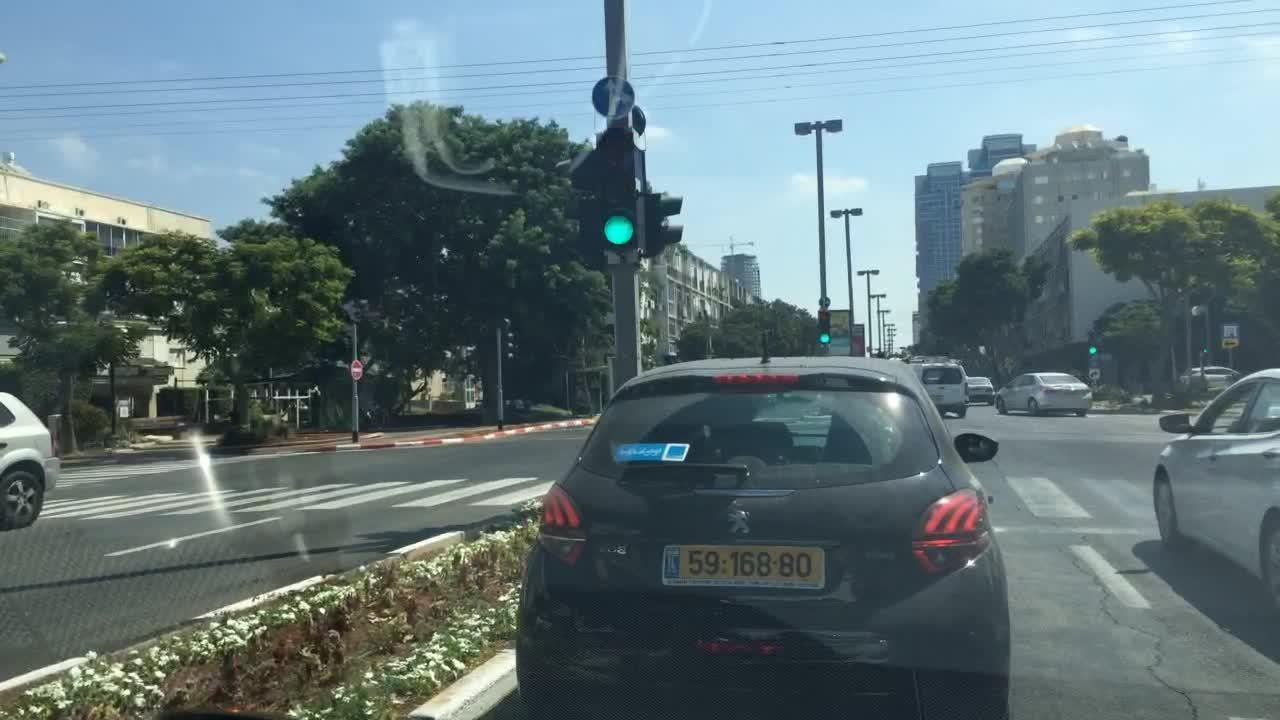no class: (715, 491, 756, 536)
